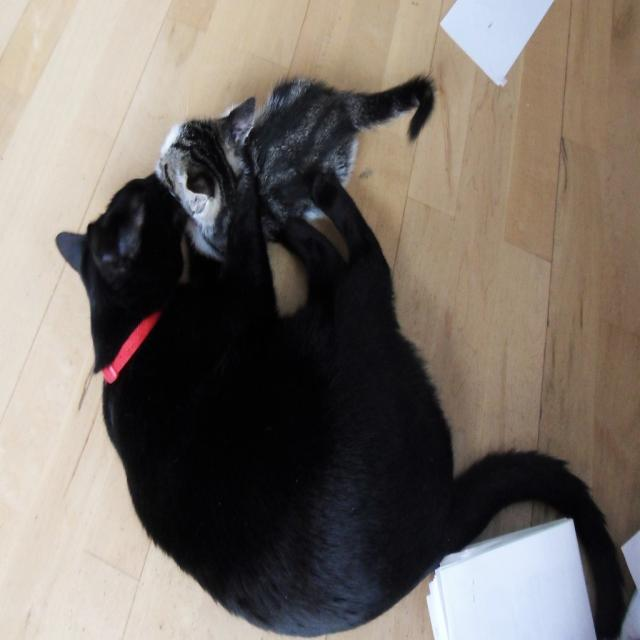Cat: (54, 171, 629, 639), (150, 69, 438, 261)
